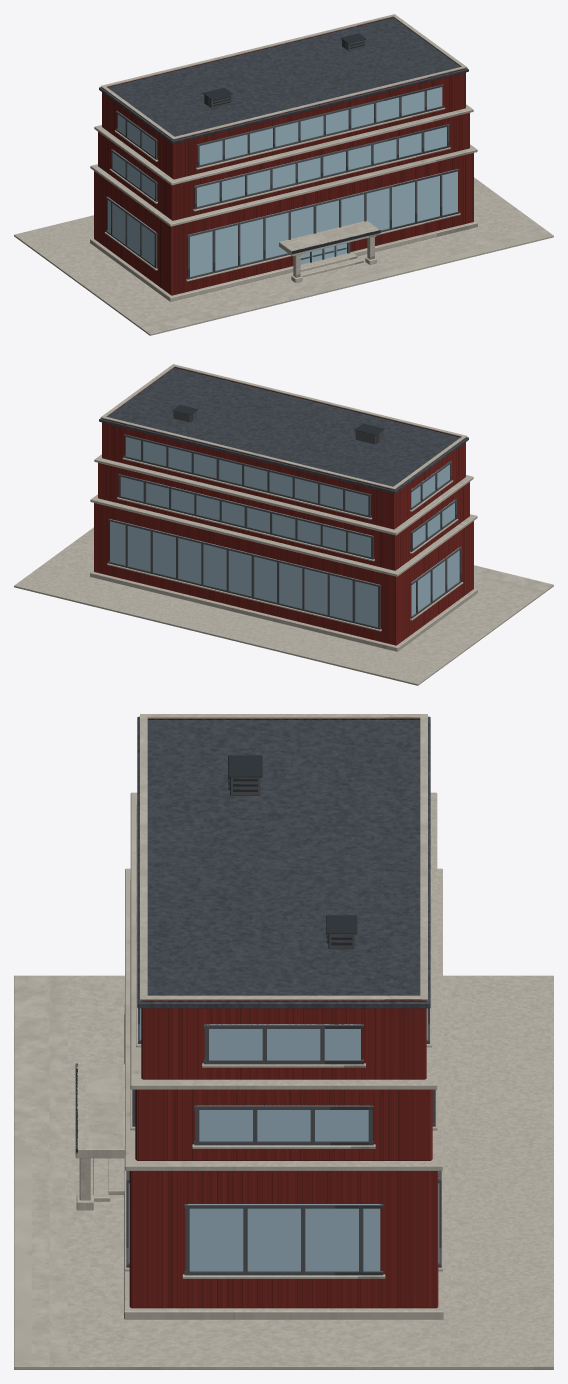
The model's file is ov-gym.glb.
3 views of the same model, one above another, from view 1: azimuth 30°, elevation 25°; view 2: azimuth 150°, elevation 25°; view 3: azimuth 270°, elevation 25° (orthographic). The views are drawn at different scales.
Visible parts, largest first — view 1: ov-gym_roofslab, ov-gym_ground, ov-gym_floor1, ov-gym_w1S_glass, ov-gym_floor3, ov-gym_floor2, ov-gym_w2S_glass, ov-gym_w3S_glass, ov-gym_cornice1, ov-gym_cornice2, ov-gym_plinth, ov-gym_canopy (+16 smaller); view 2: ov-gym_roofslab, ov-gym_ground, ov-gym_floor1, ov-gym_w1N_glass, ov-gym_floor3, ov-gym_floor2, ov-gym_w2N_glass, ov-gym_w3N_glass, ov-gym_plinth, ov-gym_cornice1, ov-gym_cornice2, ov-gym_w1W_glass (+14 smaller); view 3: ov-gym_ground, ov-gym_roofslab, ov-gym_floor1, ov-gym_floor3, ov-gym_floor2, ov-gym_w1E_glass, ov-gym_cornice2, ov-gym_cornice1, ov-gym_w2E_glass, ov-gym_w3E_glass, ov-gym_plinth, ov-gym_canopy (+10 smaller).
Boxes of the visible parts, x1=… form: ov-gym_roofslab: x1=99, y1=17, x2=468, y2=143; ov-gym_ground: x1=14, y1=177, x2=553, y2=335; ov-gym_floor1: x1=94, y1=153, x2=473, y2=295; ov-gym_w1S_glass: x1=189, y1=169, x2=457, y2=276; ov-gym_floor3: x1=102, y1=72, x2=465, y2=179; ov-gym_floor2: x1=98, y1=113, x2=469, y2=220; ov-gym_w2S_glass: x1=195, y1=127, x2=446, y2=206; ov-gym_w3S_glass: x1=199, y1=87, x2=442, y2=164; ov-gym_cornice1: x1=90, y1=144, x2=477, y2=226; ov-gym_cornice2: x1=94, y1=104, x2=473, y2=185; ov-gym_plinth: x1=90, y1=220, x2=477, y2=301; ov-gym_canopy: x1=279, y1=221, x2=380, y2=256; ov-gym_roofslab: x1=99, y1=367, x2=468, y2=493; ov-gym_ground: x1=14, y1=527, x2=553, y2=685; ov-gym_floor1: x1=94, y1=503, x2=473, y2=645; ov-gym_w1N_glass: x1=110, y1=519, x2=379, y2=626; ov-gym_floor3: x1=102, y1=422, x2=465, y2=529; ov-gym_floor2: x1=98, y1=463, x2=469, y2=570; ov-gym_w2N_glass: x1=121, y1=477, x2=372, y2=556; ov-gym_w3N_glass: x1=125, y1=437, x2=368, y2=514; ov-gym_plinth: x1=90, y1=570, x2=477, y2=651; ov-gym_cornice1: x1=90, y1=494, x2=477, y2=576; ov-gym_cornice2: x1=94, y1=454, x2=473, y2=535; ov-gym_w1W_glass: x1=411, y1=548, x2=459, y2=616; ov-gym_ground: x1=14, y1=975, x2=553, y2=1369; ov-gym_roofslab: x1=137, y1=716, x2=430, y2=1008; ov-gym_floor1: x1=129, y1=1171, x2=438, y2=1308; ov-gym_floor3: x1=141, y1=1008, x2=426, y2=1079; ov-gym_floor2: x1=135, y1=1089, x2=432, y2=1160; ov-gym_w1E_glass: x1=187, y1=1204, x2=380, y2=1271; ov-gym_cornice2: x1=130, y1=792, x2=437, y2=1089; ov-gym_cornice1: x1=125, y1=868, x2=442, y2=1170; ov-gym_w2E_glass: x1=197, y1=1105, x2=369, y2=1141; ov-gym_w3E_glass: x1=207, y1=1024, x2=360, y2=1060; ov-gym_plinth: x1=124, y1=1014, x2=443, y2=1319; ov-gym_canopy: x1=75, y1=1064, x2=124, y2=1158.
Bounding box in the file's own units: 48 × 19.2 × 28.
Materials: 7 (6 with a texture image).
